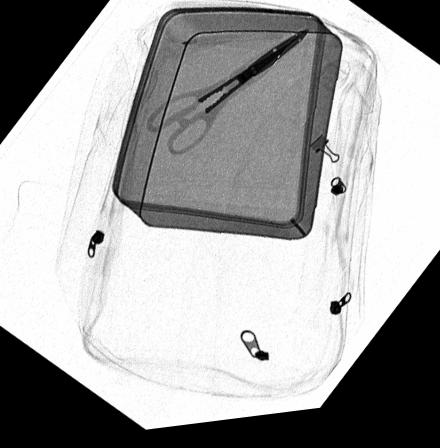Scissors: (144, 33, 310, 164)
